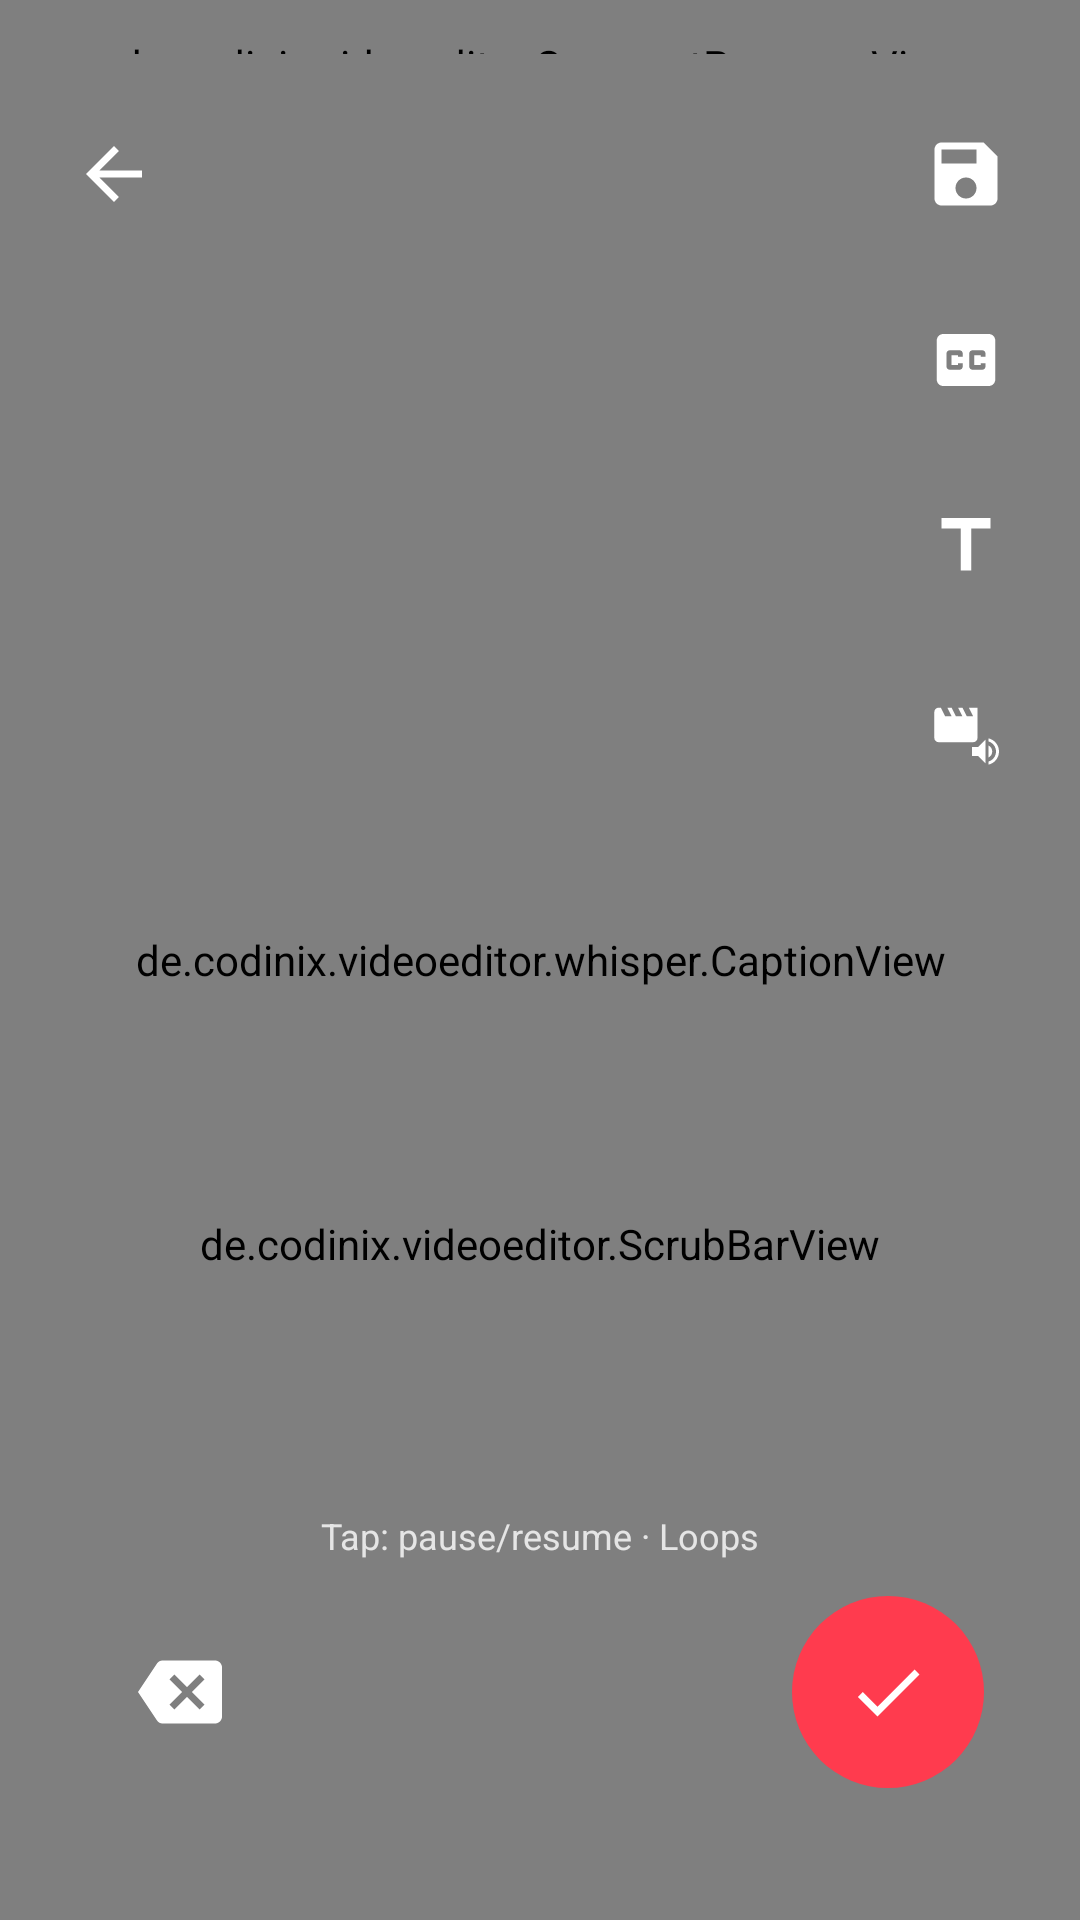

Locate icon controls on the screen. Image size 1080x1920, boxes as (x1, y1, x2, y2).
Add text: (941, 518, 991, 571)
Back to recording: (86, 146, 142, 202)
Captions: (936, 334, 996, 386)
Delete last segment: (138, 1660, 222, 1724)
Save as draft: (934, 142, 998, 206)
